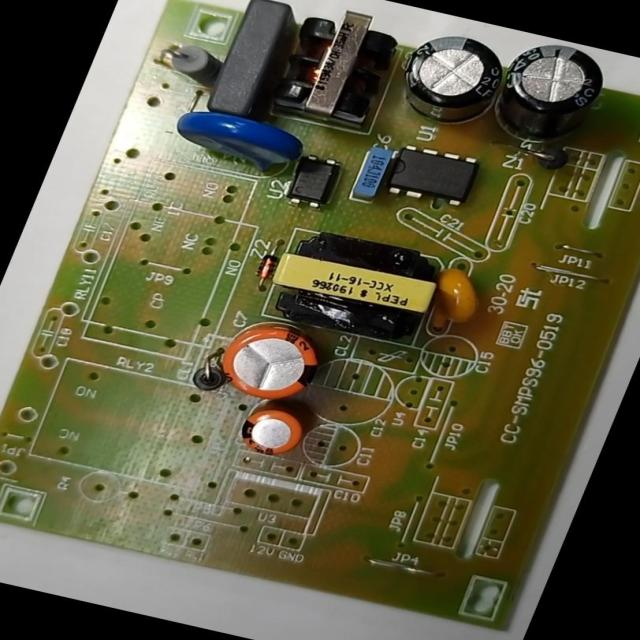Cap1: (192, 304, 352, 414)
Cap2: (220, 390, 329, 470)
Cap3: (371, 23, 529, 141)
Cap4: (473, 32, 632, 160)
MOSFET: (372, 136, 496, 218)
Mov: (160, 98, 318, 184)
Resistor: (142, 27, 230, 90)
Transformer: (245, 219, 460, 353), (253, 0, 421, 136)
